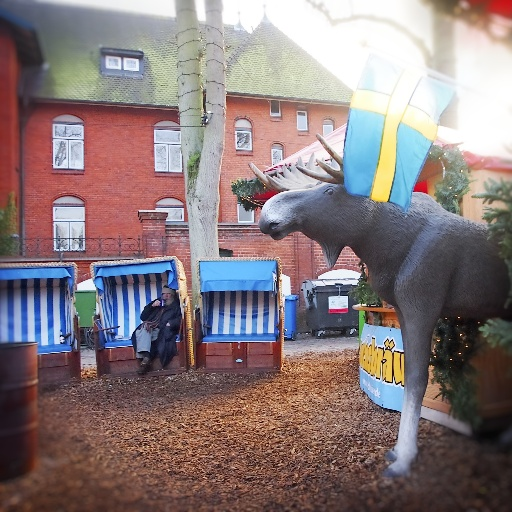hand: (154, 297, 160, 307)
